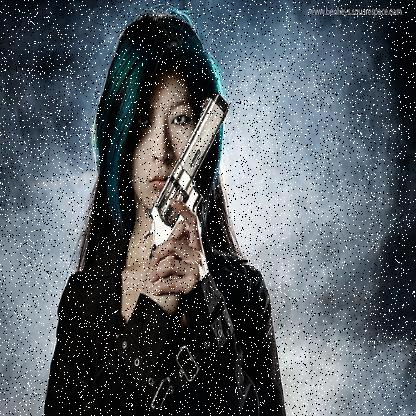pistol: (142, 86, 230, 292)
